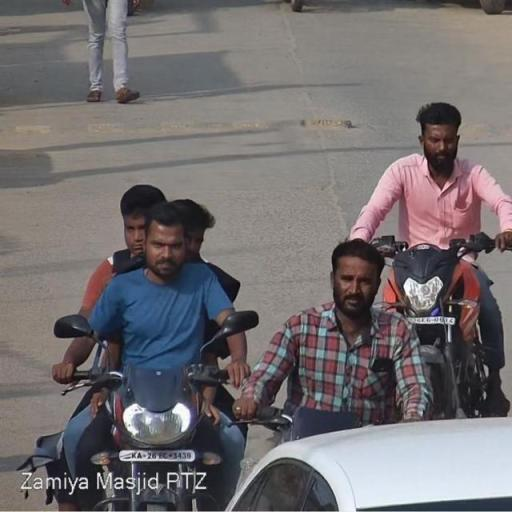tripple riding: (46, 180, 252, 402)
